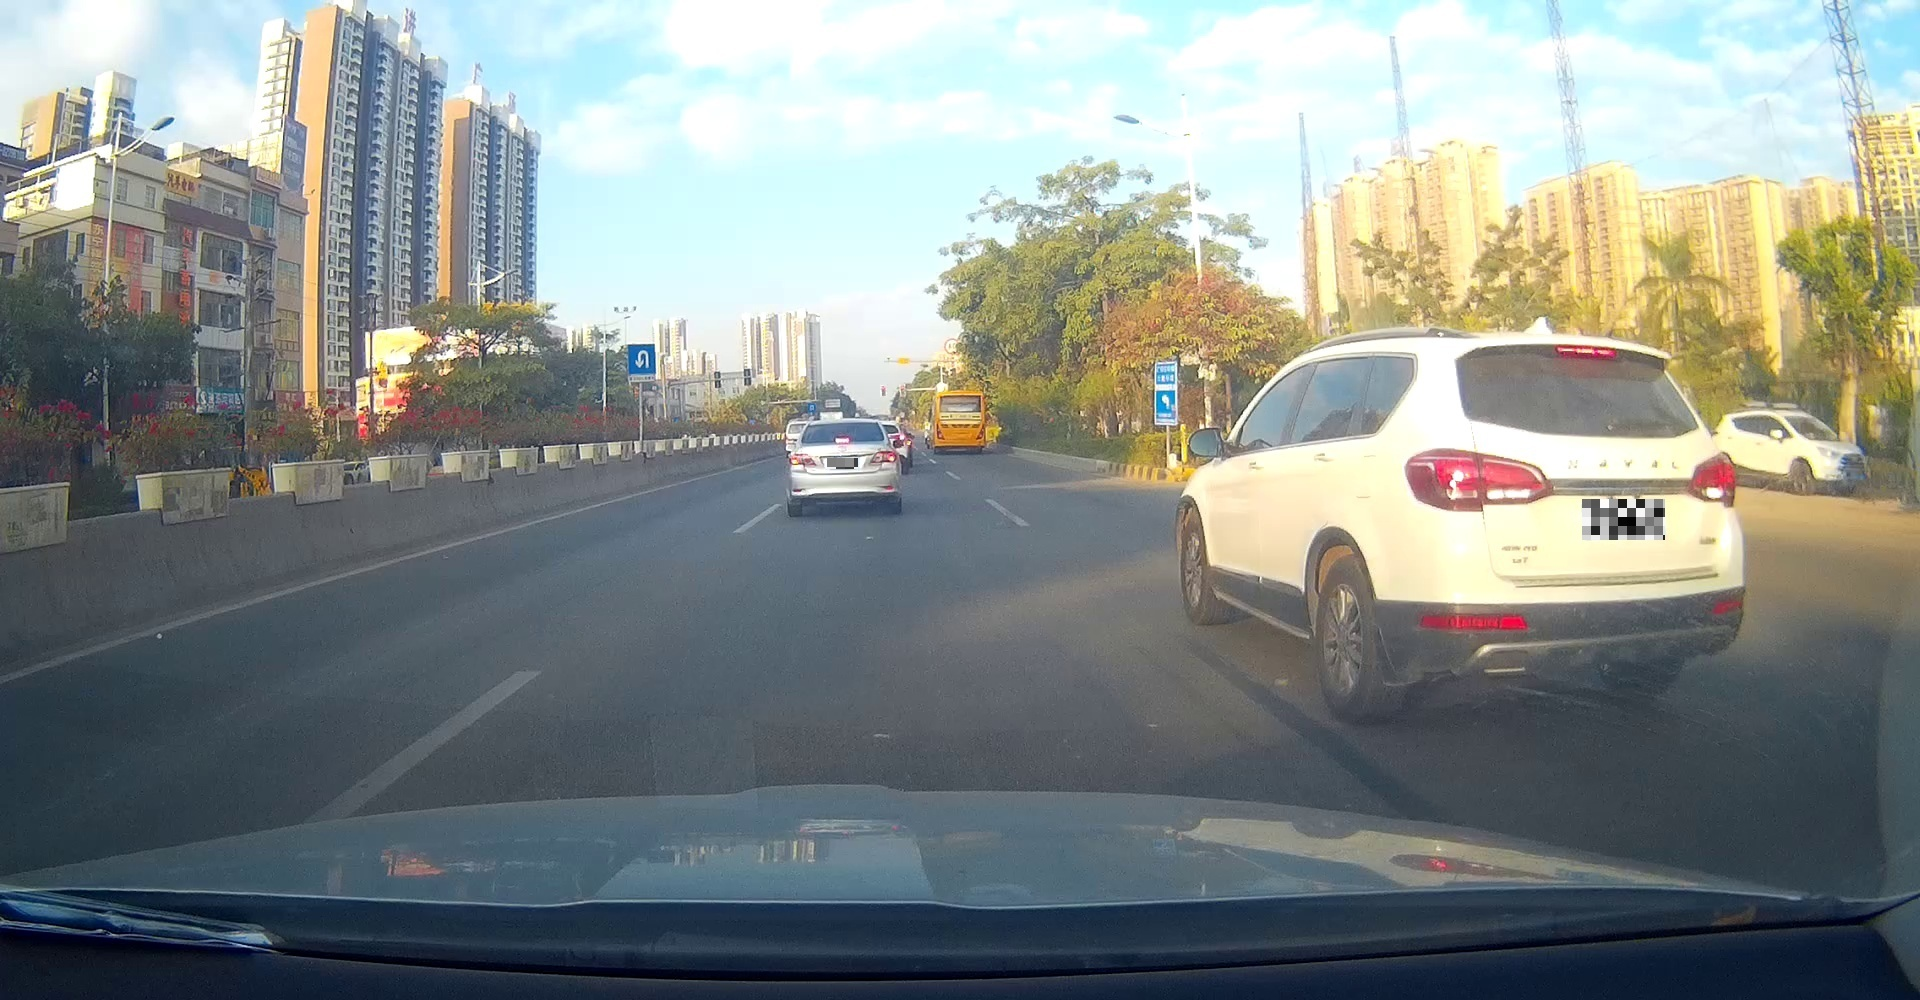L_light: (1403, 447, 1553, 511), (789, 453, 817, 467), (936, 424, 945, 440)
R_light: (1683, 449, 1736, 505), (869, 451, 899, 463), (977, 423, 984, 440)
T_light: (1554, 345, 1617, 358), (836, 438, 850, 443), (957, 395, 968, 398)
day-brake: (1404, 331, 1746, 709), (789, 418, 903, 516)
day-no: (935, 390, 985, 453)
plate_1: (827, 458, 858, 470)
plate_2: (1582, 499, 1665, 541)
